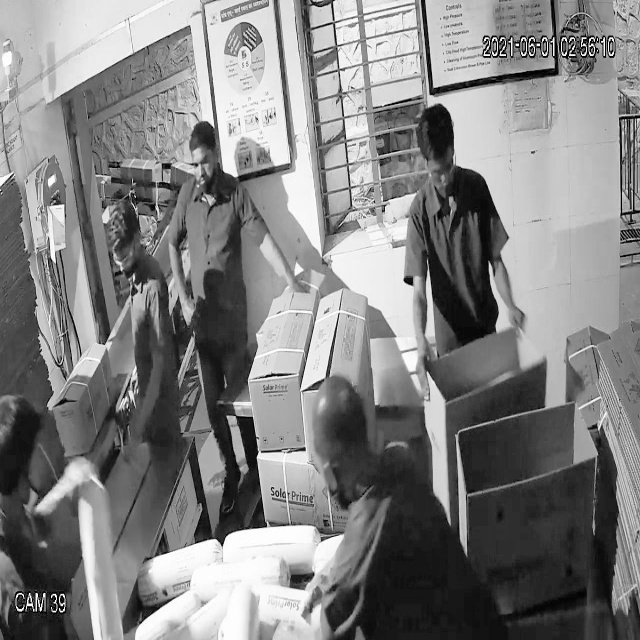Gafas: (422, 148, 460, 191), (109, 241, 140, 275)
